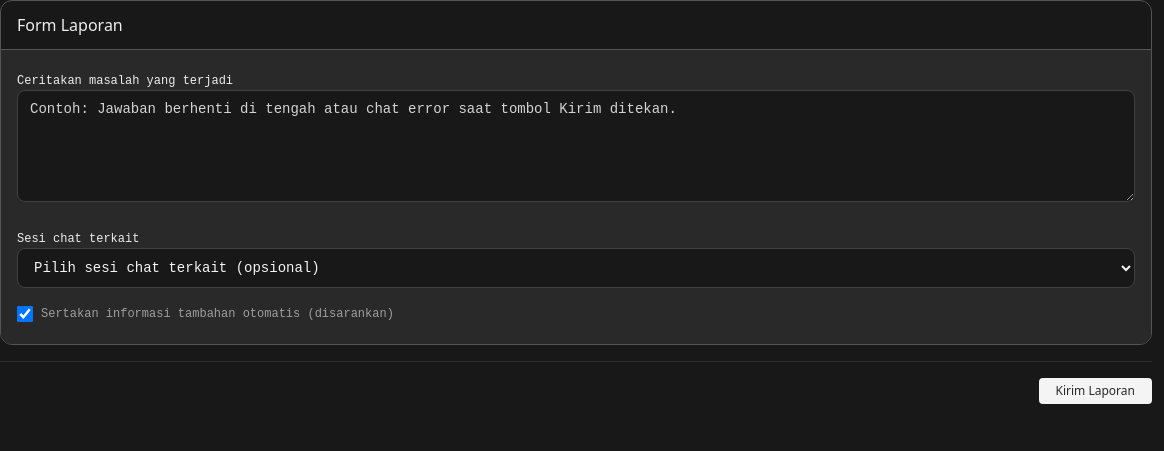
TechnicalReportForm › requires description before submit
Click the button "Kirim Laporan" at (1095,391), box [1038,378,1152,404]
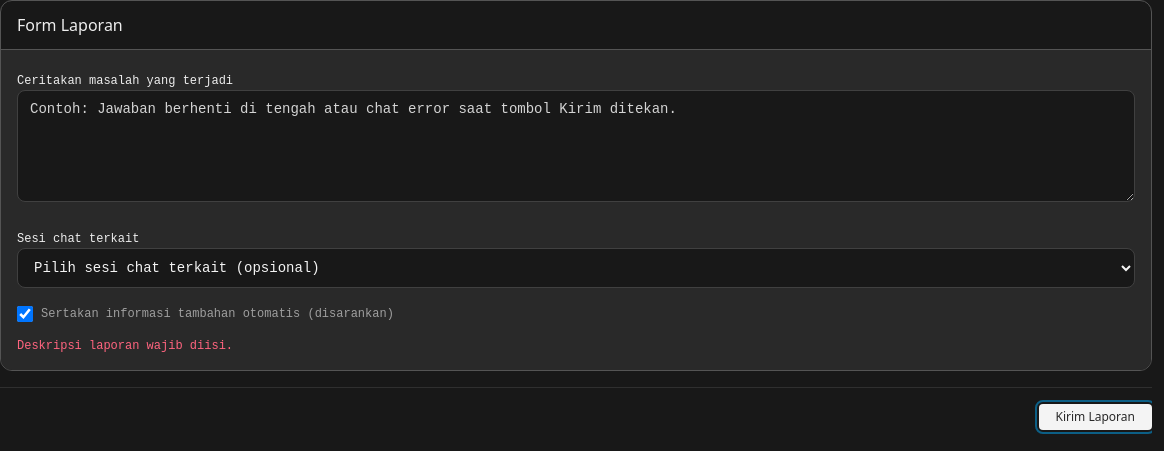
Check: the text "Deskripsi laporan wajib diisi." is shown, box [17,339,233,353]
